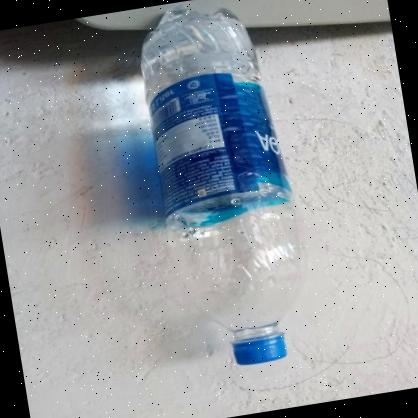bottle: (135, 0, 322, 375)
cap: (230, 329, 290, 367)
label: (149, 69, 294, 217)
